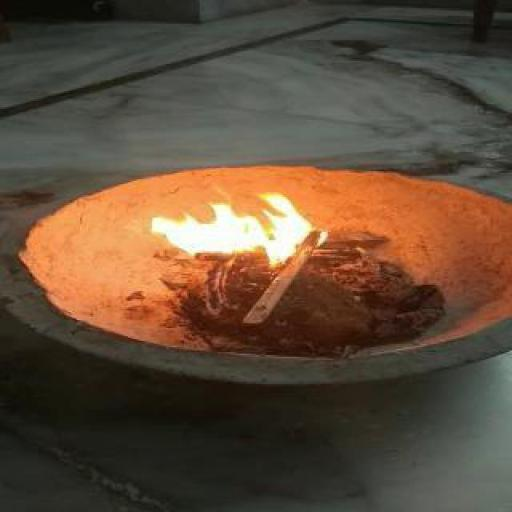smoke: (142, 187, 336, 274)
